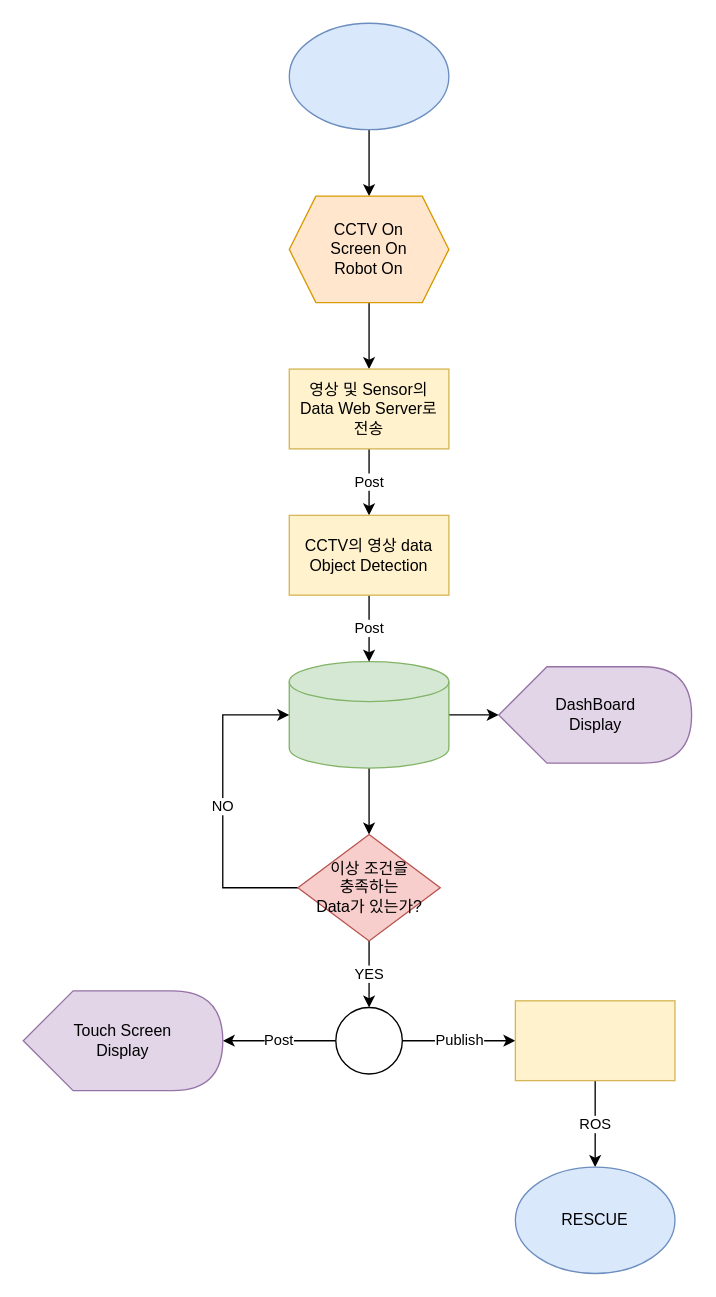
The diagram is 716 pixels wide and 1297 high, and some of its shapes have lost their labels. Each missing label, with the centre of its shape:
Detection Data 및 Sensor Data DB에 기록: point (368, 714)
Helper-Bot Runnig: point (594, 1040)
START: point (368, 76)
